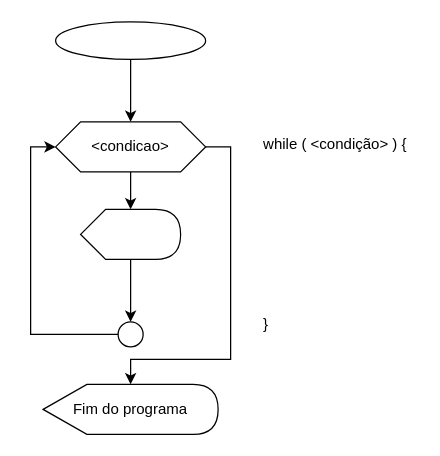
This 440x456 diagram has some shape labels left out. Here are the shapes that lost their labels. From the top down, the centre of each, then its label:
At [130,40]: "Inicio".
At [130,233]: "Ola...".
